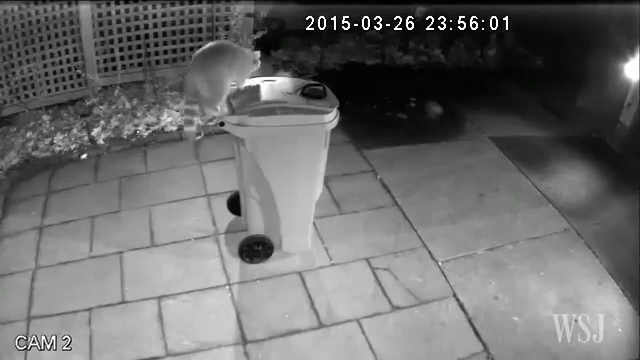raccoon: (177, 34, 268, 145)
